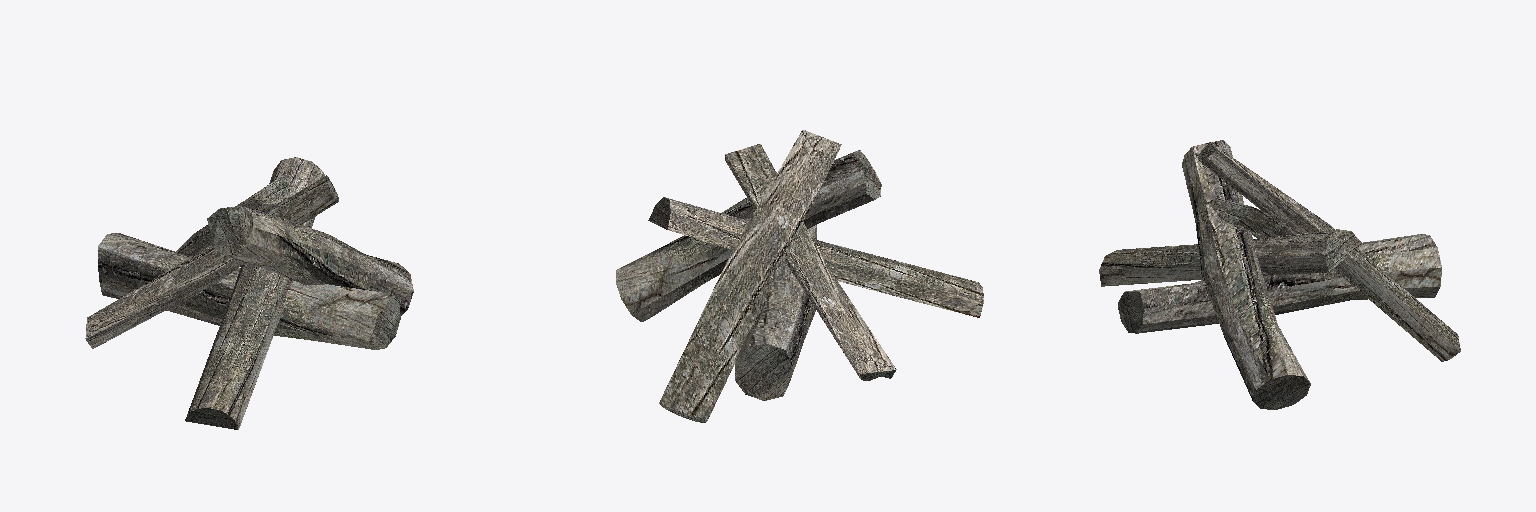
The picture shows the model from 3 angles: view 1: azimuth 30°, elevation 25°; view 2: azimuth 150°, elevation 25°; view 3: azimuth 270°, elevation 25°; orthographic projection.
Parts seen in each view (by area): view 1: Plane; view 2: Plane; view 3: Plane.
Part boxes in pixels (bbox=[...]): Plane: bbox=[85, 157, 413, 429]; Plane: bbox=[616, 130, 983, 422]; Plane: bbox=[1099, 140, 1460, 409].
Size of the model in its own units: 3.76 by 2.52 by 3.94.
1 materials, 1 textured.